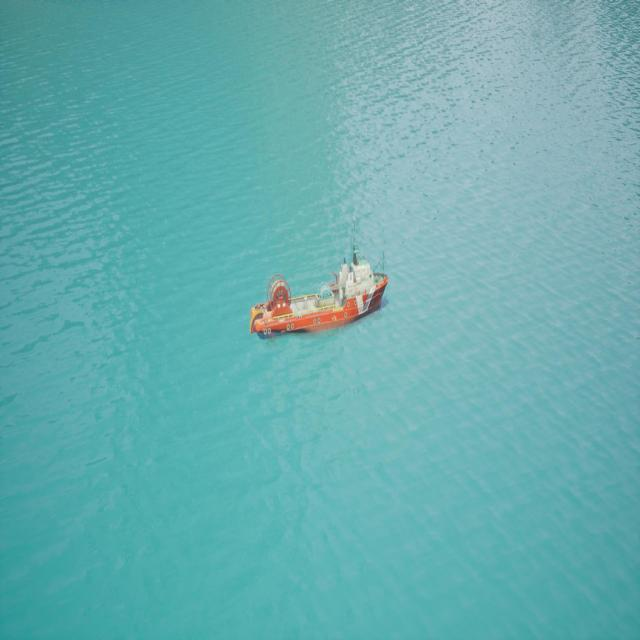tug boat: (249, 251, 394, 339)
